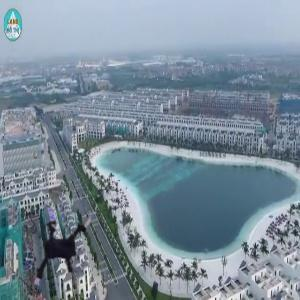drone: (8, 193, 106, 291)
